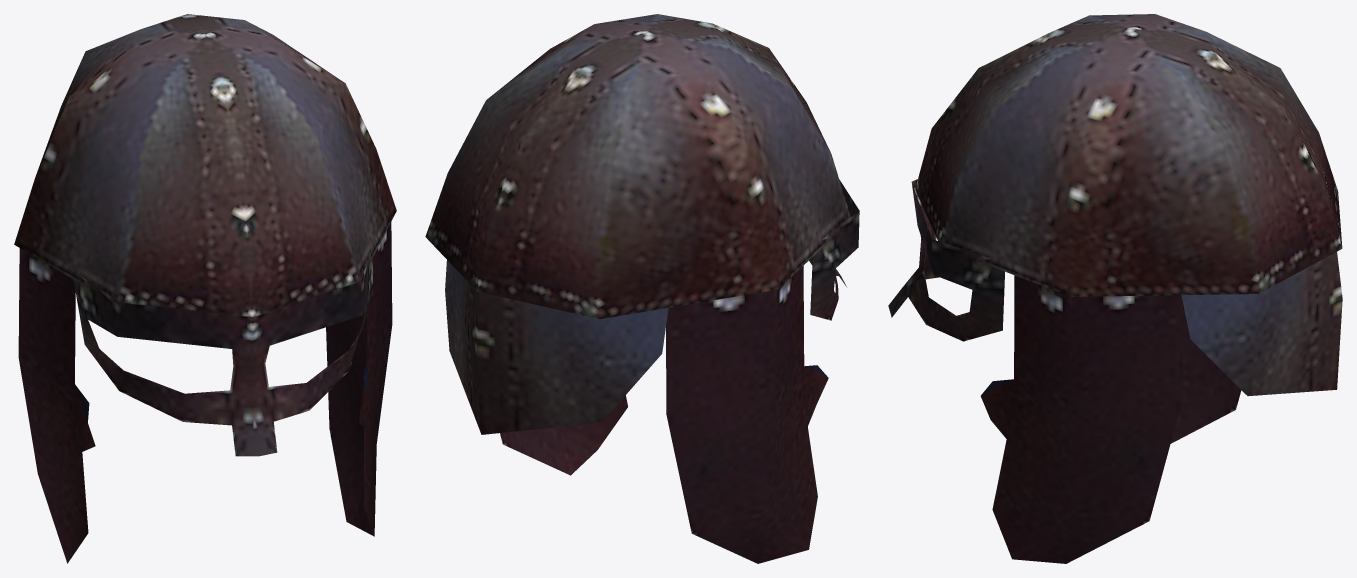
File: Leather Armor Helm.fbx
The picture shows the model from 3 angles, left to right: view 1: azimuth 30°, elevation 25°; view 2: azimuth 150°, elevation 25°; view 3: azimuth 270°, elevation 25°; orthographic projection. The views are drawn at different scales.
Visible parts, largest first — view 1: Leather Helm; view 2: Leather Helm; view 3: Leather Helm.
Part boxes in pixels (<box>): Leather Helm: <box>14,14,396,563</box>; Leather Helm: <box>425,14,859,563</box>; Leather Helm: <box>888,14,1342,563</box>.
Size of the model in its own units: 0.1957 by 0.2845 by 0.2425.
